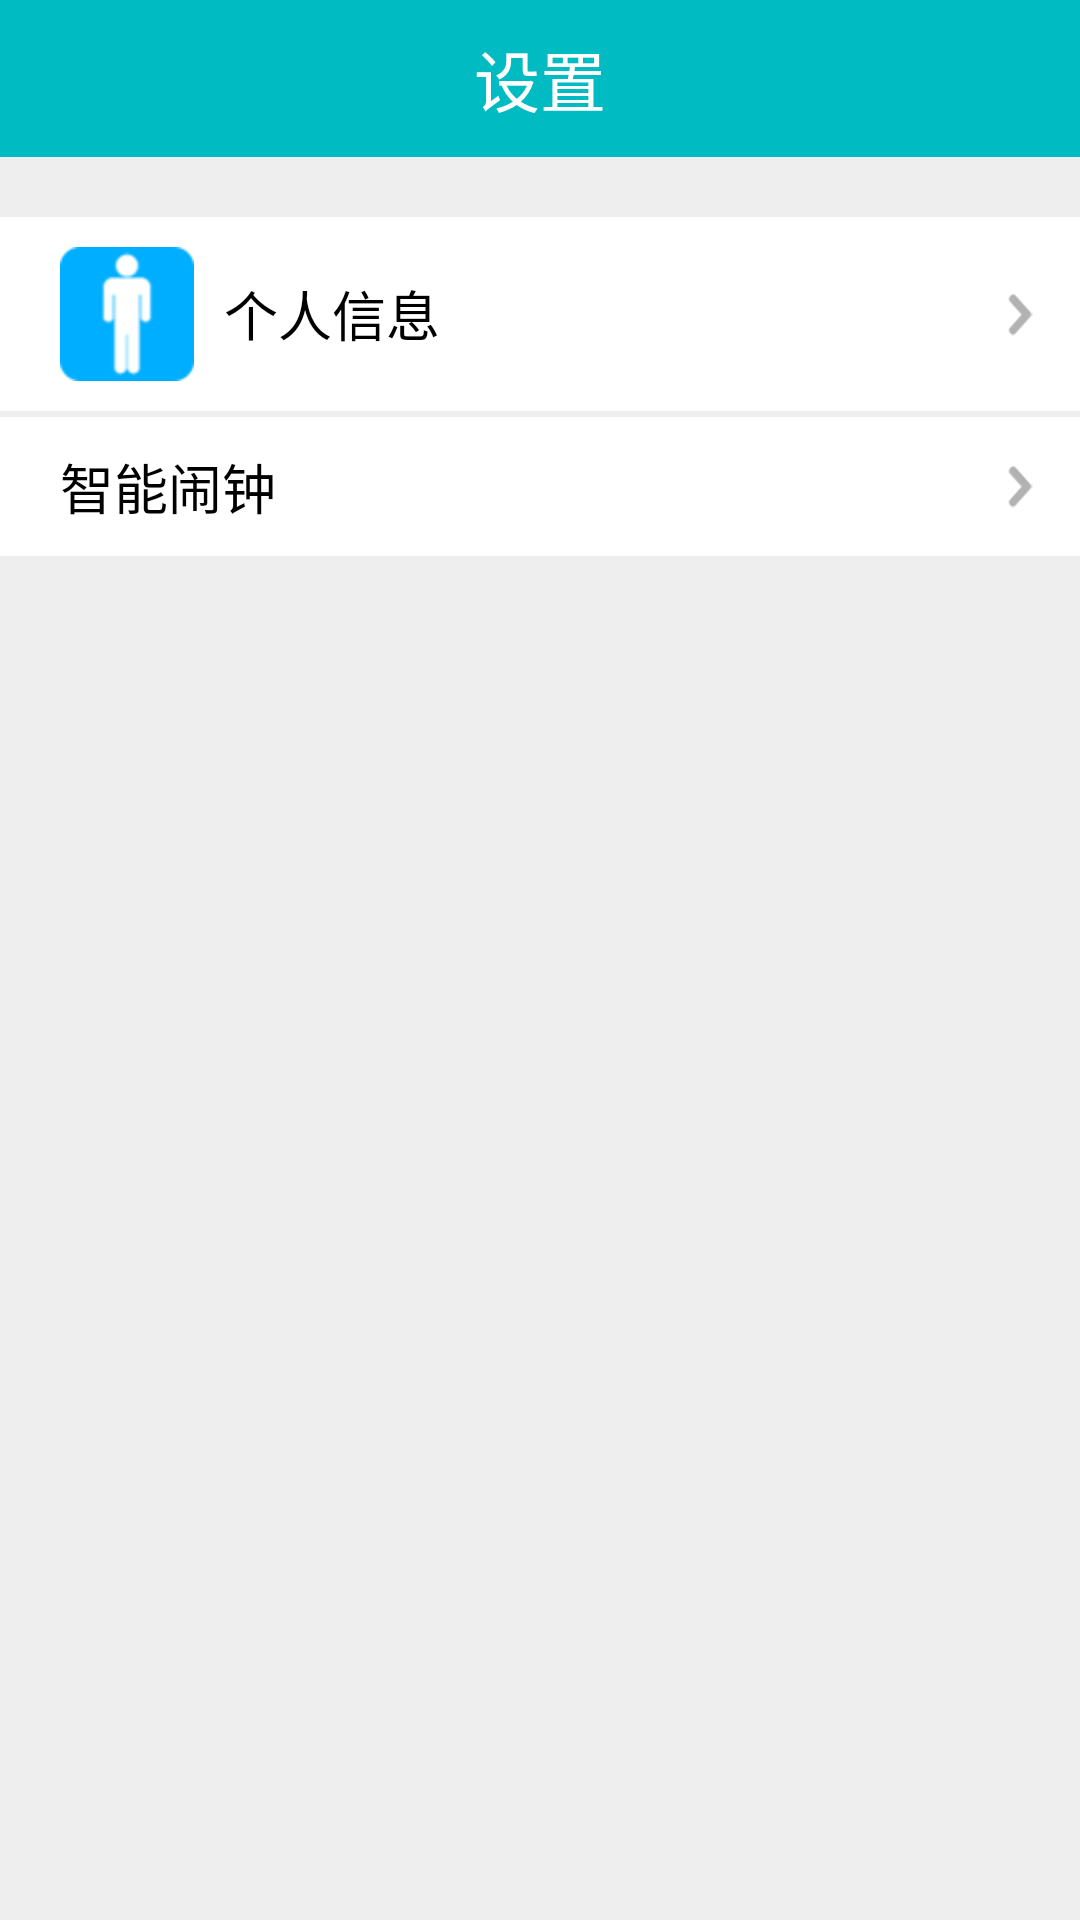

Icon click points for this 1080 x 1920 phone screenshot, format [x,y]:
next: [1020,314], [1020,486]
